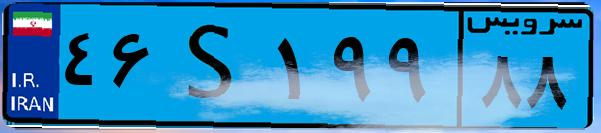1: (270, 28, 330, 110)
4: (57, 26, 110, 100)
6: (110, 28, 158, 98)
8: (475, 38, 525, 113), (525, 38, 570, 115)
9: (385, 28, 445, 110), (330, 28, 385, 110)
S: (158, 12, 270, 120)
